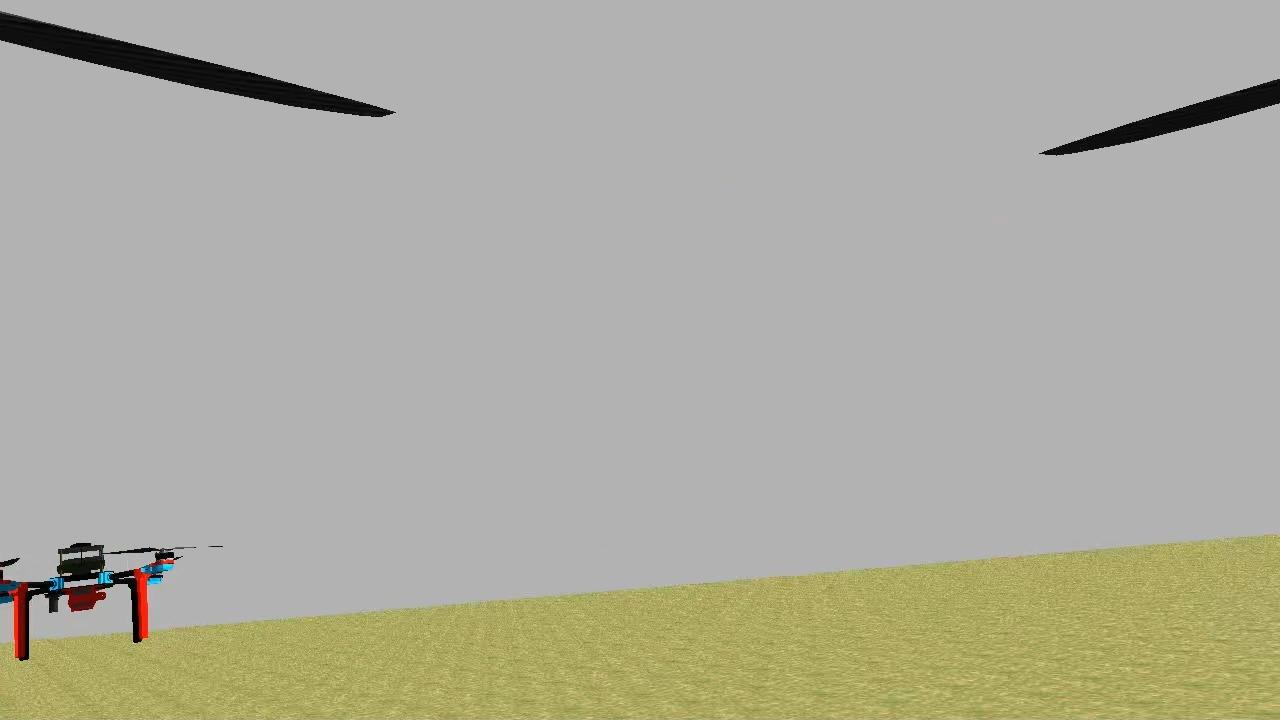UAV: (0, 533, 187, 667)
